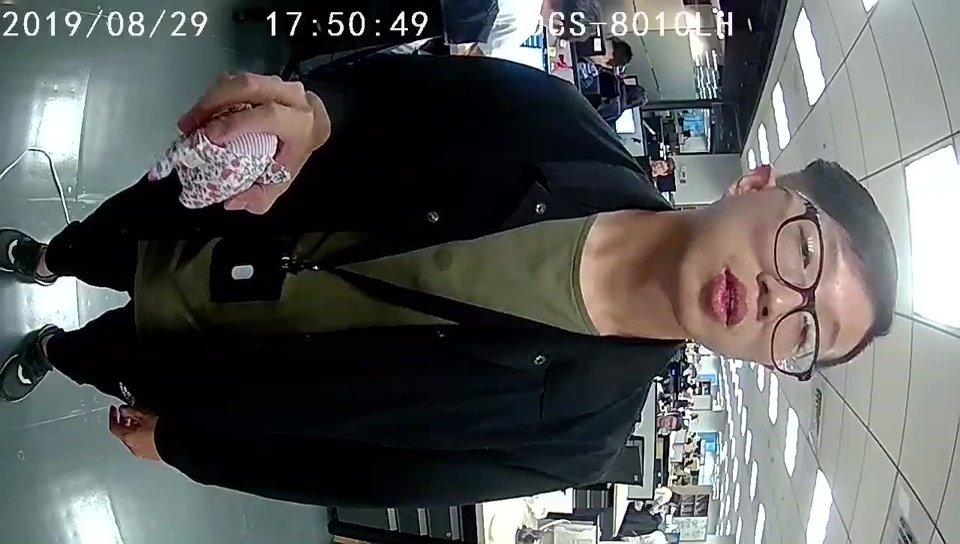pig: (172, 117, 293, 209)
